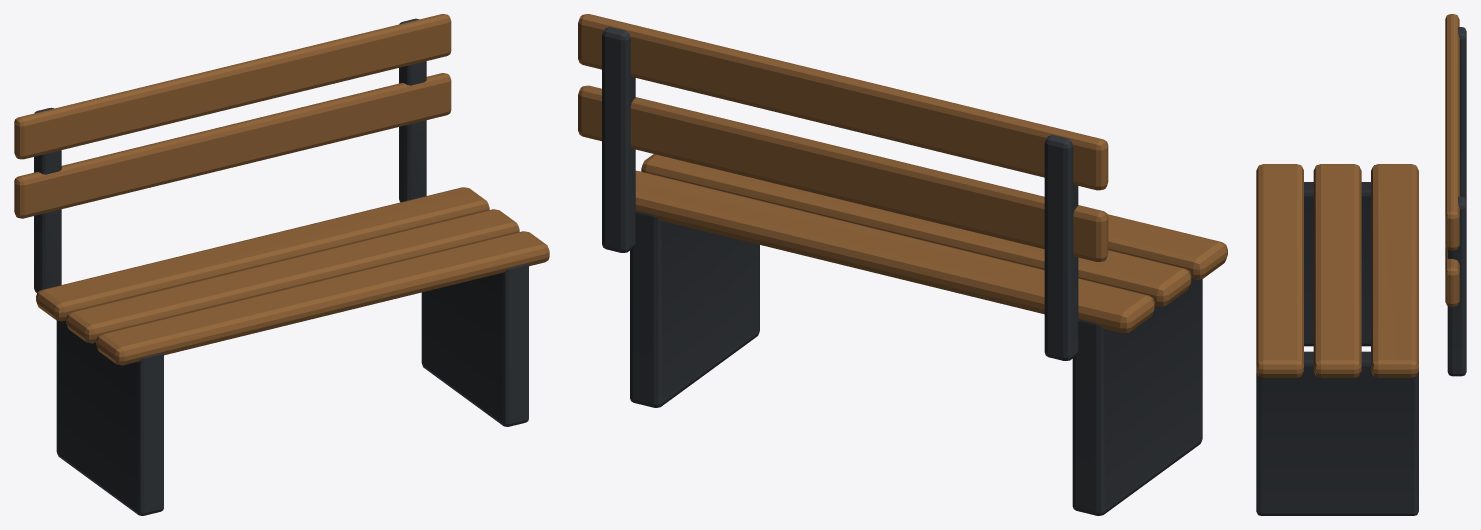
File: bench.glb
3 views of the same model, side by side, from view 1: azimuth 30°, elevation 25°; view 2: azimuth 150°, elevation 25°; view 3: azimuth 270°, elevation 25° (orthographic). The views are drawn at different scales.
Parts seen in each view (by area): view 1: bench; view 2: bench; view 3: bench.
Boxes of the visible parts, <box> form: bench: <box>14,14,549,515</box>; bench: <box>578,14,1227,515</box>; bench: <box>1256,14,1466,515</box>.
Bounding box in the file's own units: 1 × 0.725 × 0.44.
